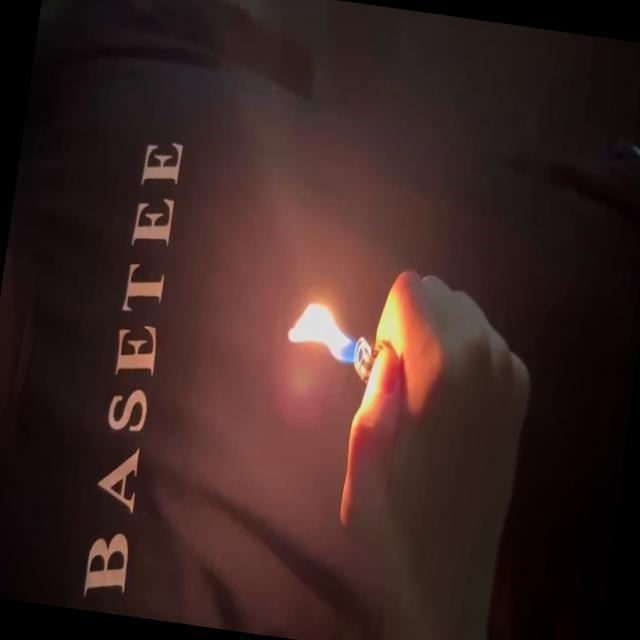Fire: (283, 294, 369, 365)
